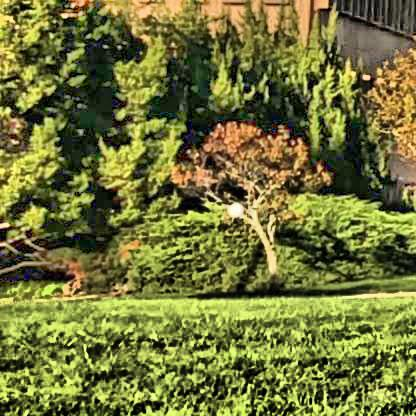golfball: (224, 198, 241, 215)
